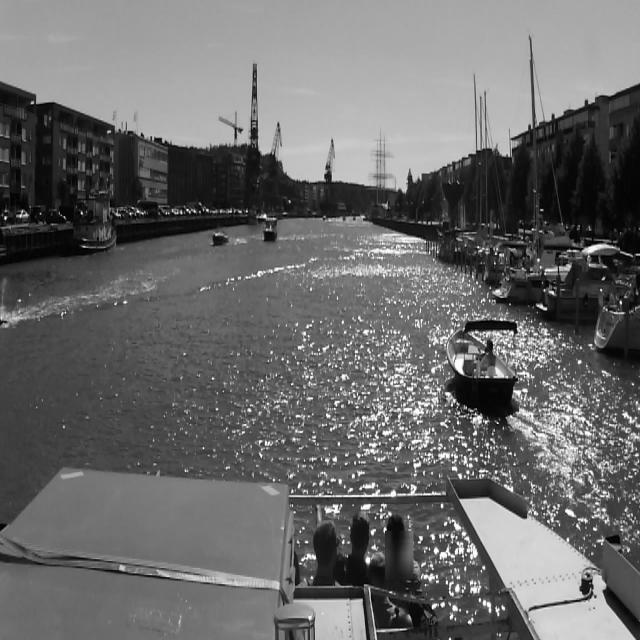ship: (536, 243, 640, 318), (447, 316, 519, 412), (71, 189, 123, 256), (264, 215, 278, 243), (210, 227, 228, 247)
